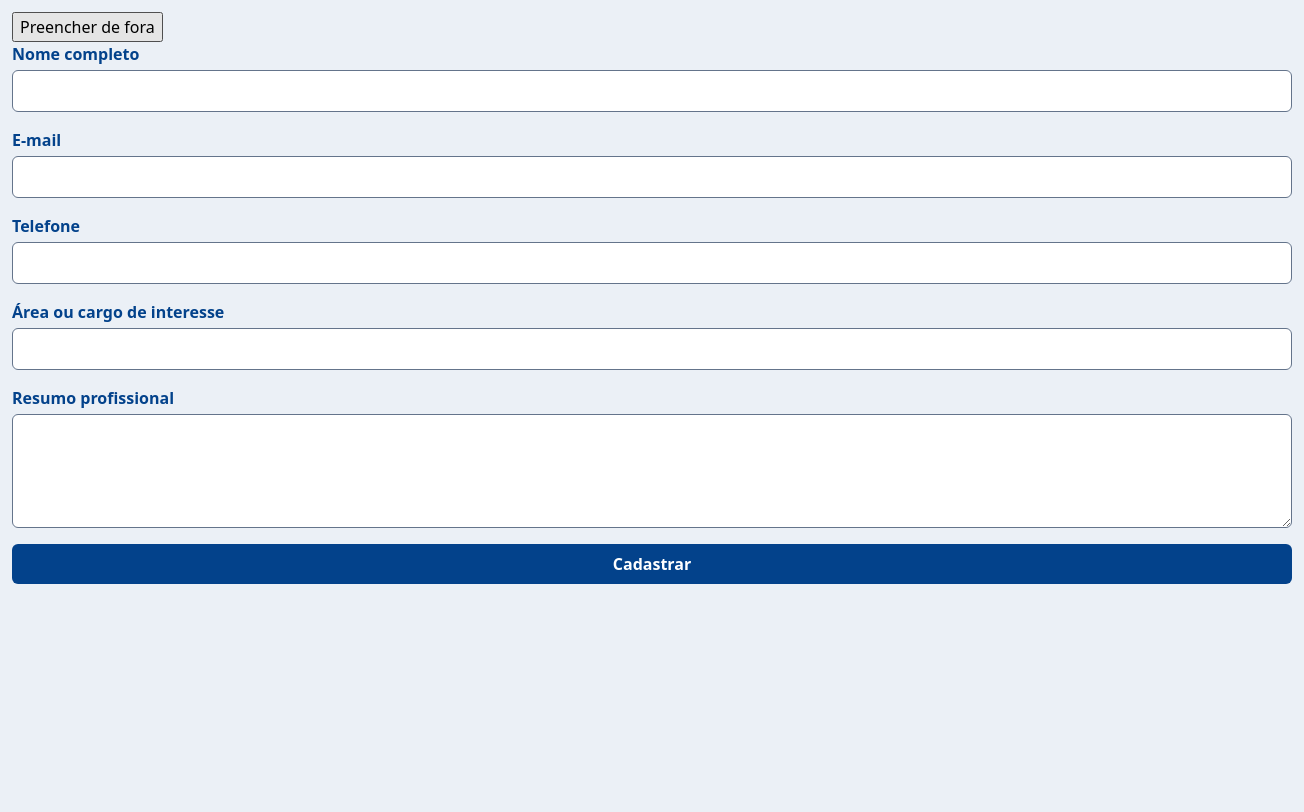
Test case: CandidateForm › ao corrigir um campo, só o erro dele some
Click the button "Cadastrar" at (652, 564), box [12,544,1292,584]
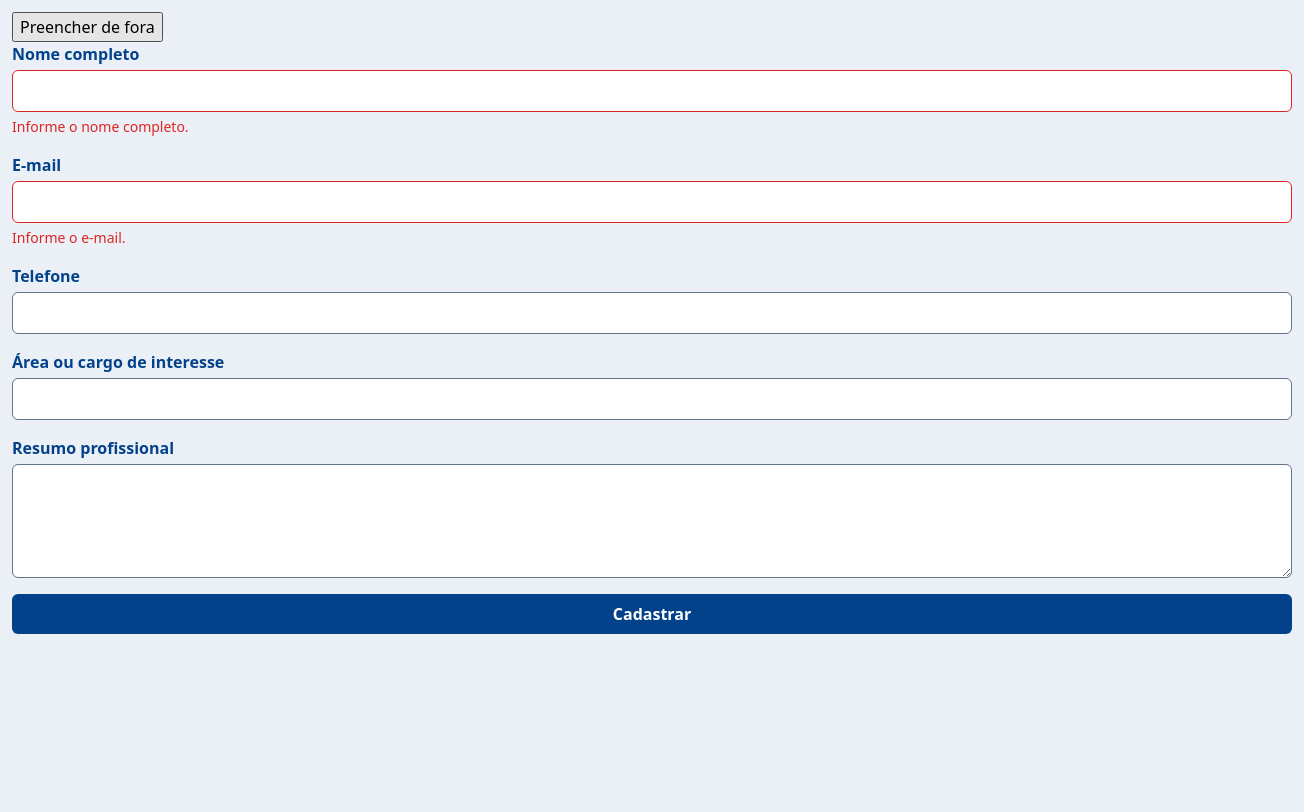
Type "Maria" into the field labelled "Nome completo" at (652, 91), box [12,70,1292,112]
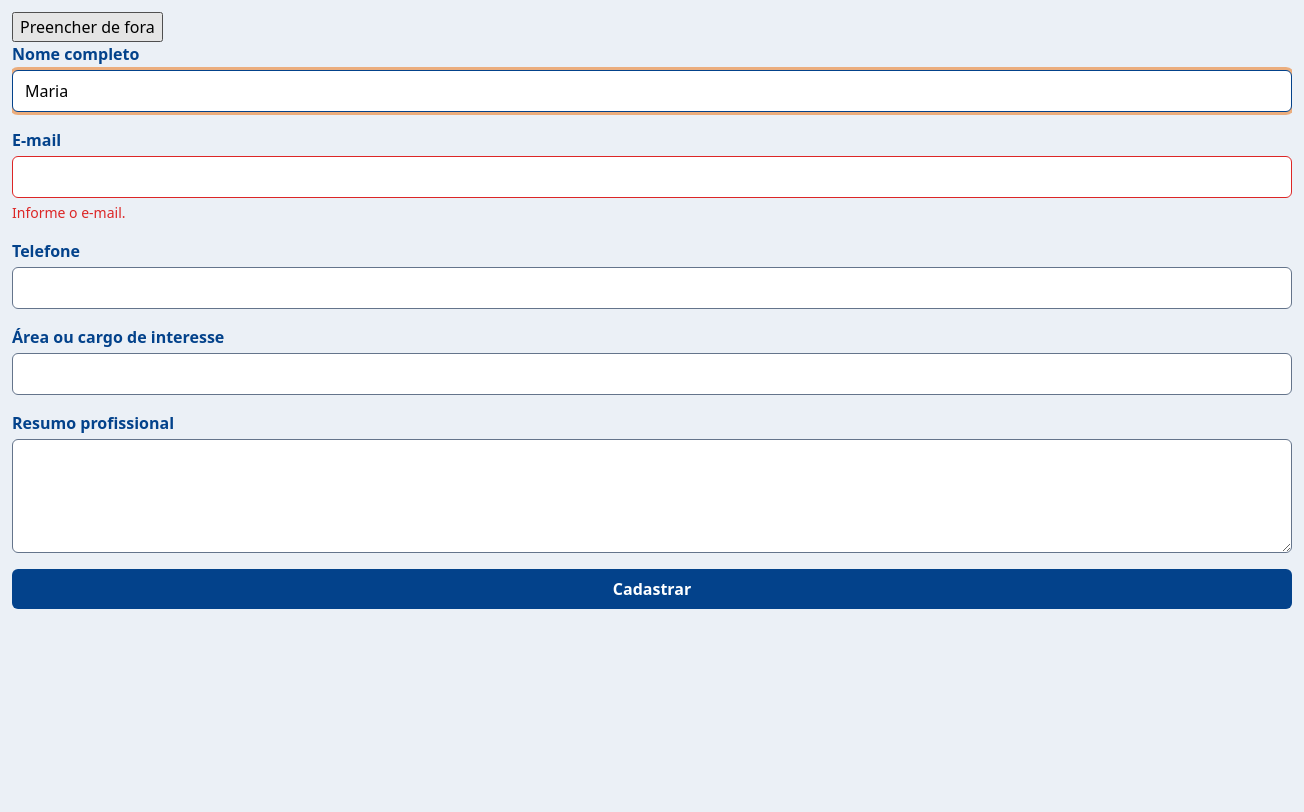
Now the text "Informe o e-mail." is shown, box [12,203,126,222]
Now the text "Informe o nome completo." is gone
